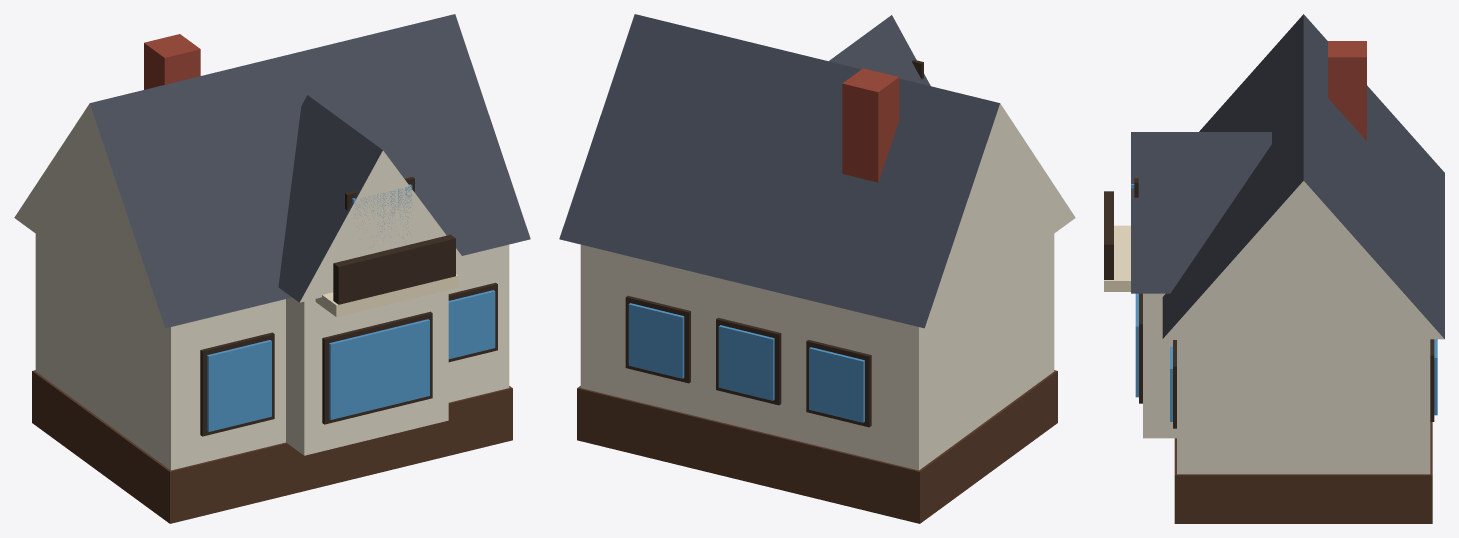
File: 65_polish_balcony_2.obj
3 views of the same model, side by side, from view 1: azimuth 30°, elevation 25°; view 2: azimuth 150°, elevation 25°; view 3: azimuth 270°, elevation 25° (orthographic). The views are drawn at different scales.
Parts seen in each view (by area): view 1: 65_polish_balcony_2; view 2: 65_polish_balcony_2; view 3: 65_polish_balcony_2.
Boxes of the visible parts, x1,y1,x2,y2 form: 65_polish_balcony_2: (14, 14, 530, 523); 65_polish_balcony_2: (559, 14, 1075, 523); 65_polish_balcony_2: (1104, 14, 1444, 523).
Size of the model in its own units: 1.62 by 1.64 by 1.4.
